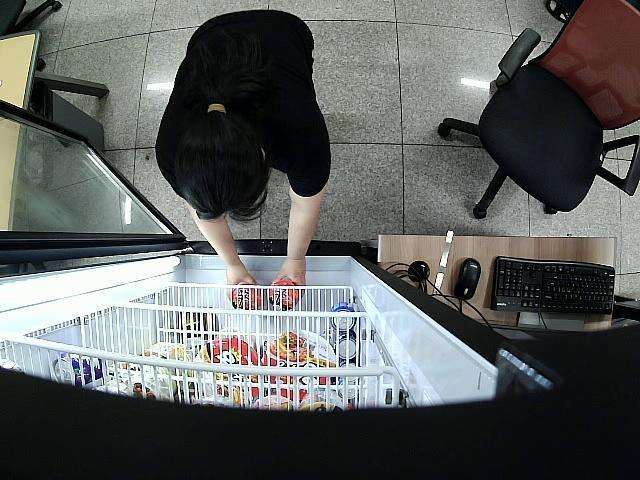02_shinRamen_S: (270, 278, 300, 310), (230, 282, 262, 310)
